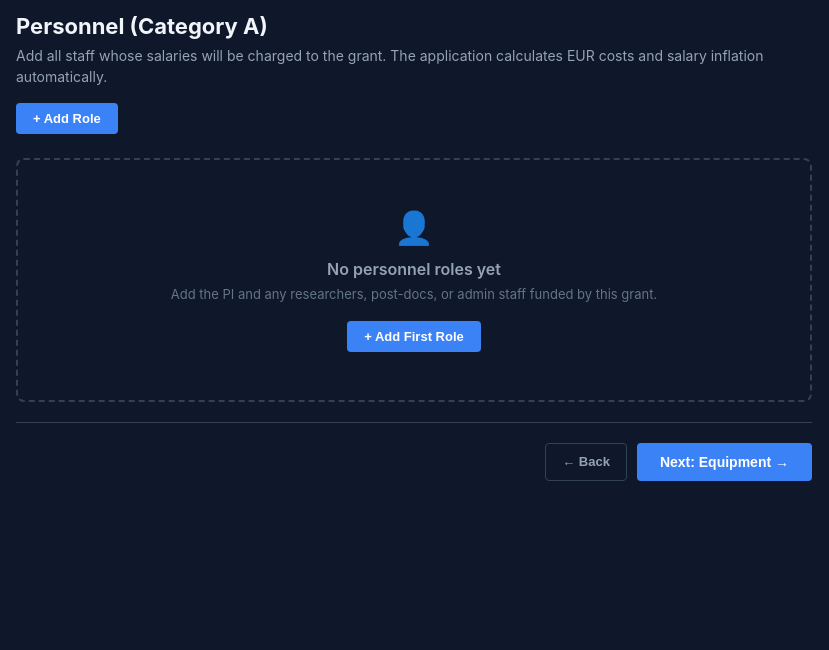
Test case: Personnel — salary currency › Actual Cost shows no per-Work-Package rows in the role cost preview
Step 1. Click the button "+ Add Role" → point(67, 118), box [16,103,118,134]
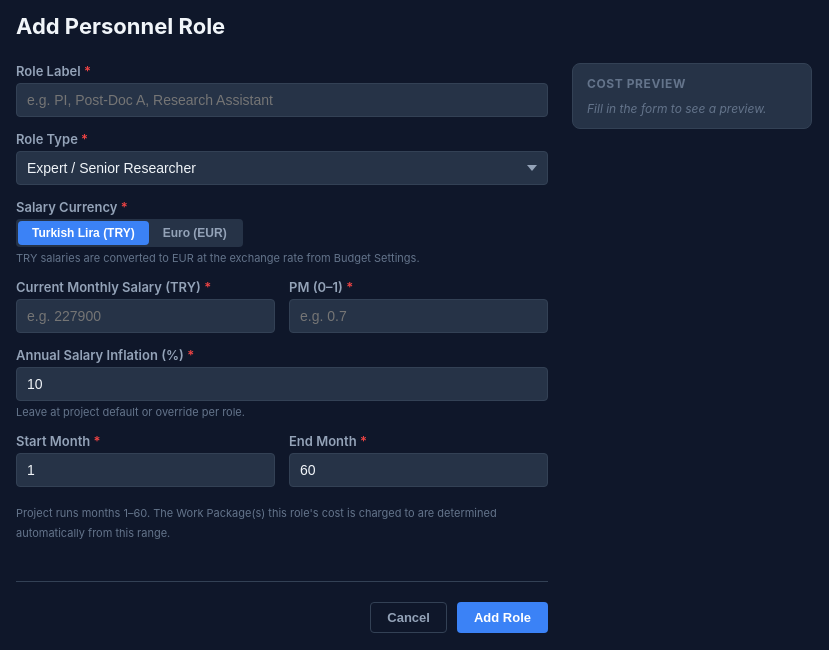
Step 2. Type "50000" into the number field labelled "Current Monthly Salary (TRY)" → point(146, 316), box [16,299,275,333]
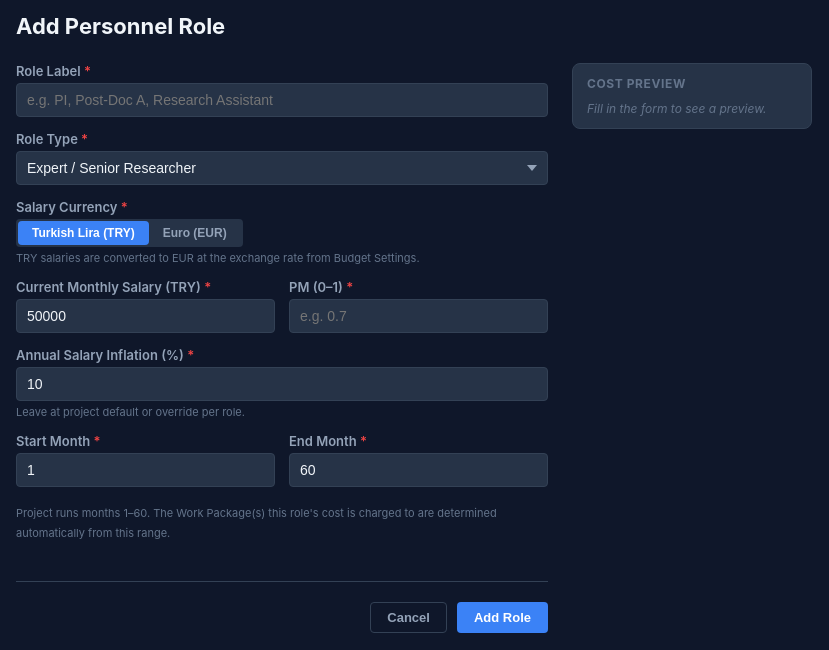
Step 3. Type "1" into the number field labelled "PM (0–1)" → point(418, 316), box [289,299,548,333]
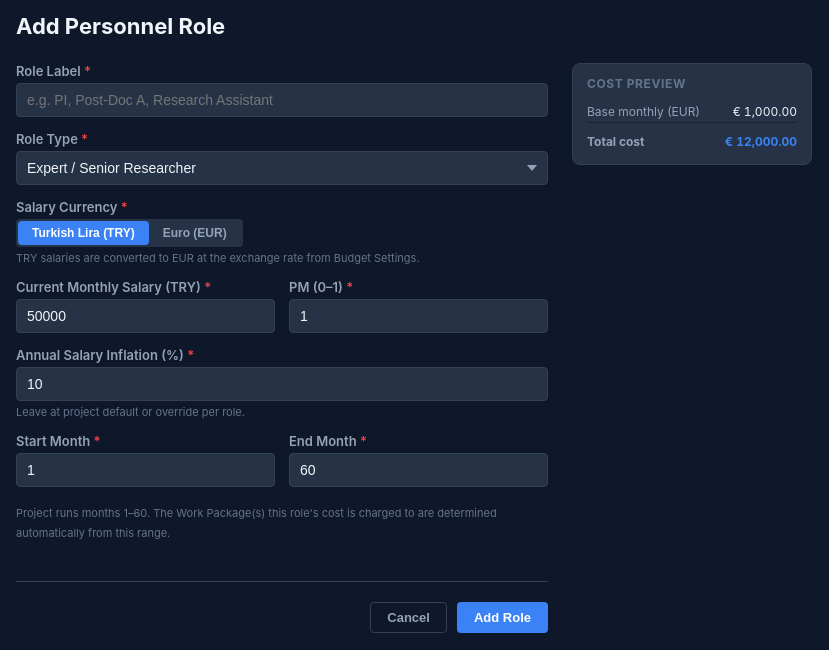
Expected: the text "→" is not shown
Expected: the text "Total cost" is shown, [587,134,644,149]
